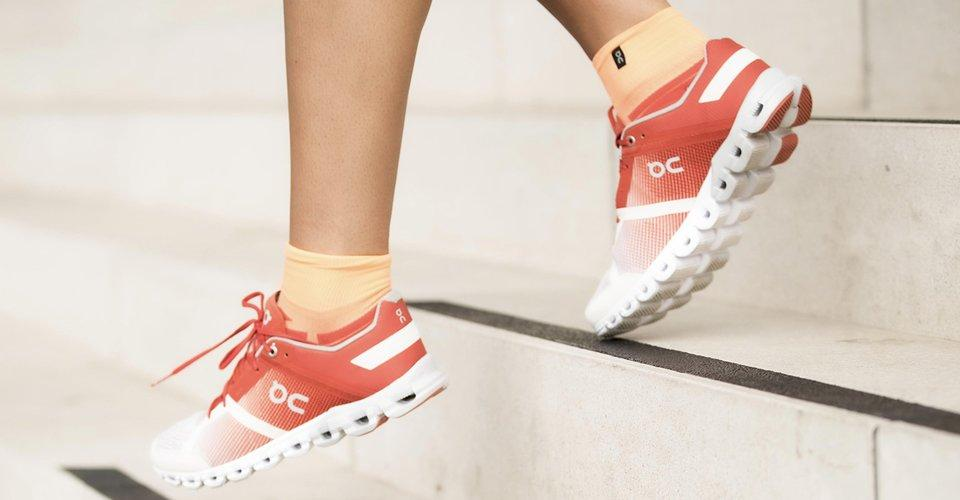OC_logo: (634, 122, 698, 214), (261, 371, 326, 433), (385, 302, 421, 344)
sock logo: (595, 4, 708, 122)
